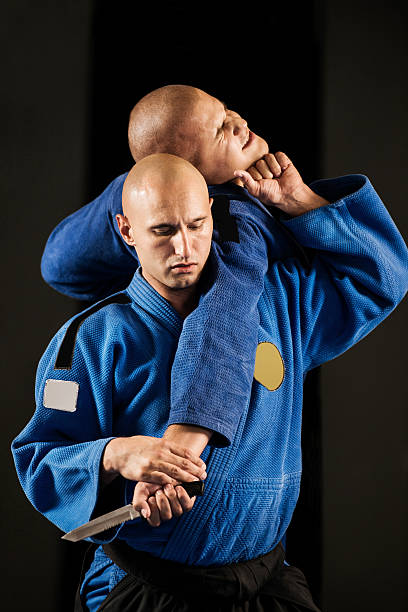knife: (59, 476, 208, 546)
